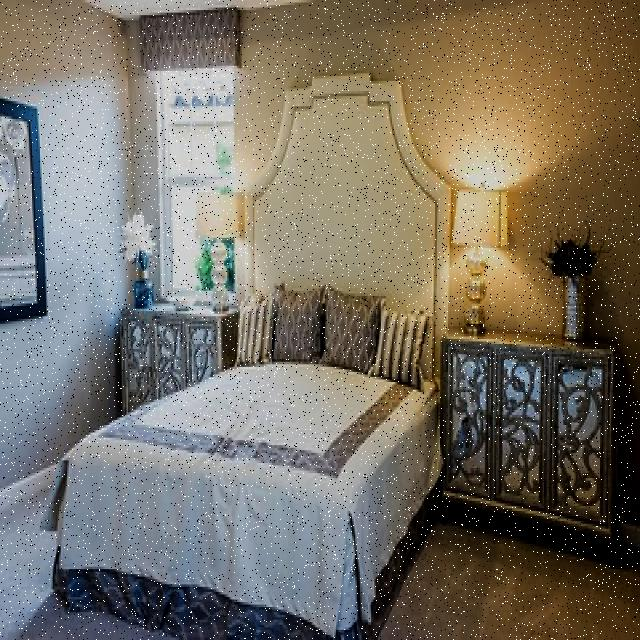bed: (54, 288, 449, 626)
